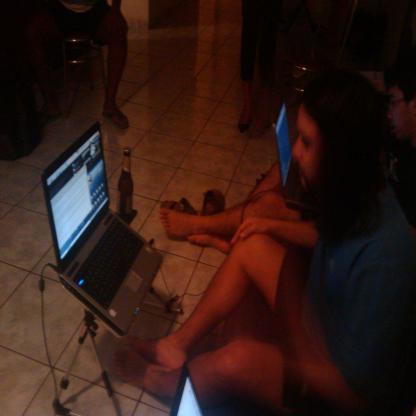board: (42, 121, 164, 339), (274, 102, 310, 206), (117, 147, 133, 222)
